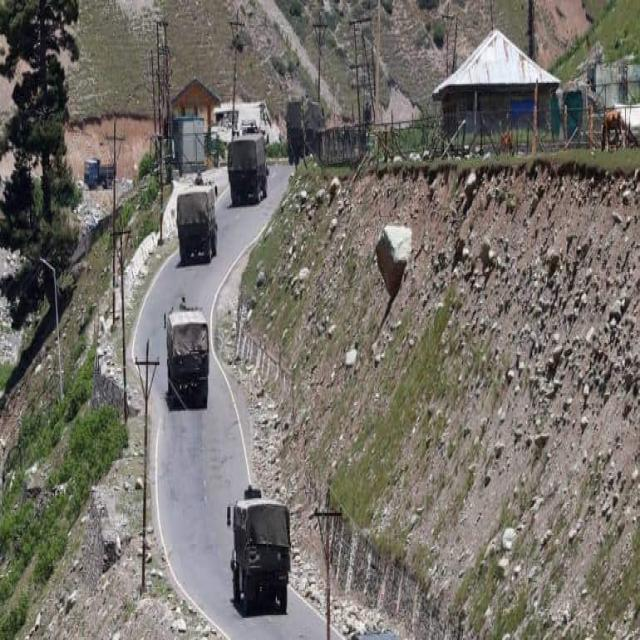truck: (232, 489, 291, 615), (166, 309, 209, 406), (176, 187, 218, 263)
